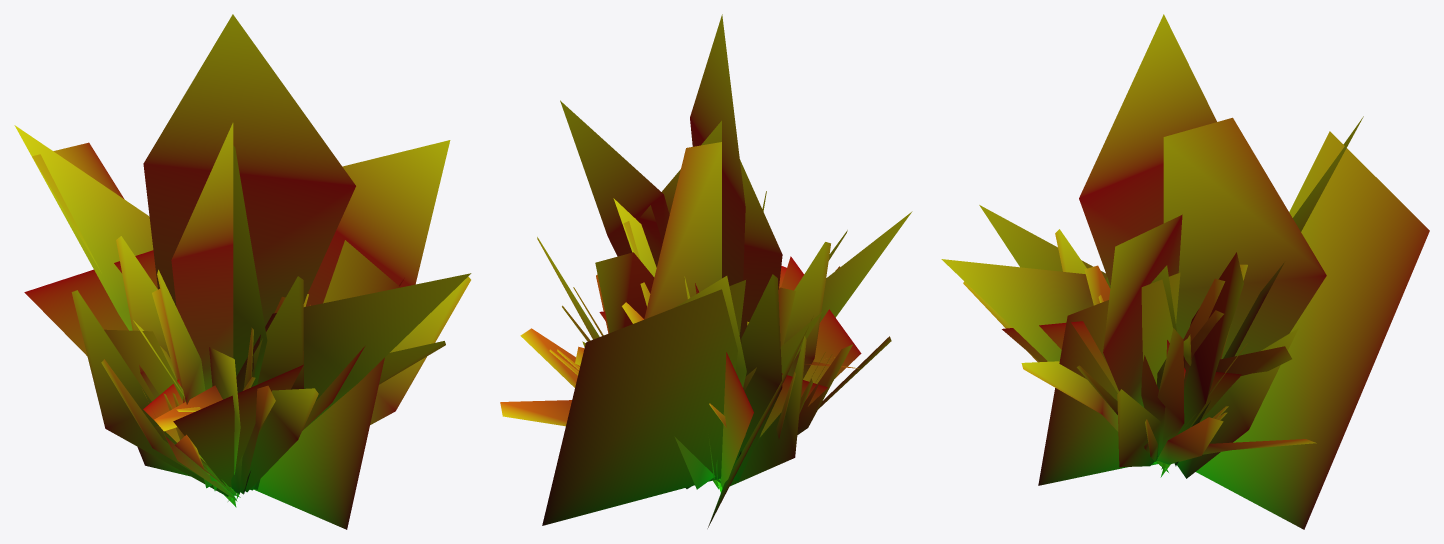
The model's file is tmjhcayia_Var2_LOD3.fbx.
3 renders of one model, left to right at view 1: azimuth 30°, elevation 25°; view 2: azimuth 150°, elevation 25°; view 3: azimuth 270°, elevation 25°, orthographic. The views are drawn at different scales.
Parts seen in each view (by area): view 1: Var2_LOD3; view 2: Var2_LOD3; view 3: Var2_LOD3.
Boxes of the visible parts, <box> form: Var2_LOD3: <box>14,14,471,529</box>; Var2_LOD3: <box>500,14,912,528</box>; Var2_LOD3: <box>941,14,1429,529</box>.
Bounding box in the file's own units: 18.08 × 25.36 × 24.12.
